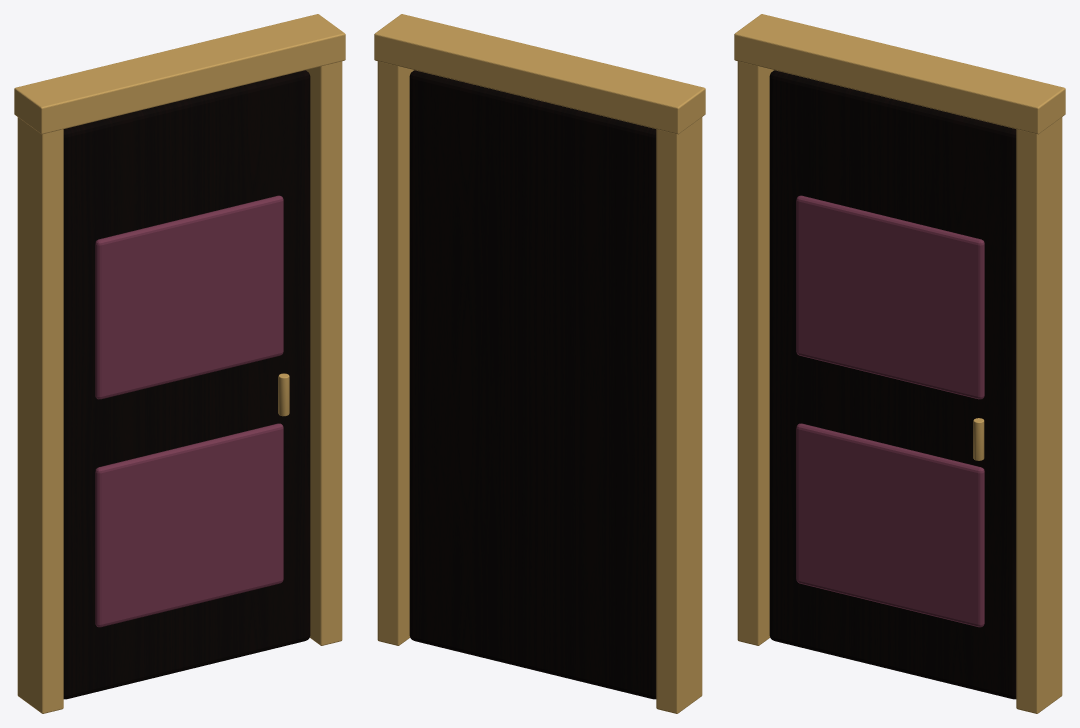
The model's file is speakeasy-door.glb.
3 views of the same model, side by side, from view 1: azimuth 30°, elevation 25°; view 2: azimuth 150°, elevation 25°; view 3: azimuth 330°, elevation 25° (orthographic).
Visible parts, largest first — view 1: speakeasy-door - Room Review joinery runtime PBR, speakeasy-door - Room Review trim runtime PBR, speakeasy-door - Room Review upholstery runtime PBR; view 2: speakeasy-door - Room Review joinery runtime PBR, speakeasy-door - Room Review trim runtime PBR; view 3: speakeasy-door - Room Review joinery runtime PBR, speakeasy-door - Room Review trim runtime PBR, speakeasy-door - Room Review upholstery runtime PBR.
Boxes of the visible parts, left/top/right/bottom form: speakeasy-door - Room Review joinery runtime PBR: left=63, top=70, right=310, bottom=699; speakeasy-door - Room Review trim runtime PBR: left=14, top=14, right=345, bottom=713; speakeasy-door - Room Review upholstery runtime PBR: left=95, top=195, right=283, bottom=627; speakeasy-door - Room Review joinery runtime PBR: left=409, top=70, right=656, bottom=699; speakeasy-door - Room Review trim runtime PBR: left=374, top=14, right=705, bottom=713; speakeasy-door - Room Review joinery runtime PBR: left=769, top=70, right=1016, bottom=699; speakeasy-door - Room Review trim runtime PBR: left=734, top=14, right=1065, bottom=713; speakeasy-door - Room Review upholstery runtime PBR: left=796, top=195, right=984, bottom=627.
Bounding box in the file's own units: 1.4 × 2.67 × 0.232.
Materials: 3 (1 with a texture image).
